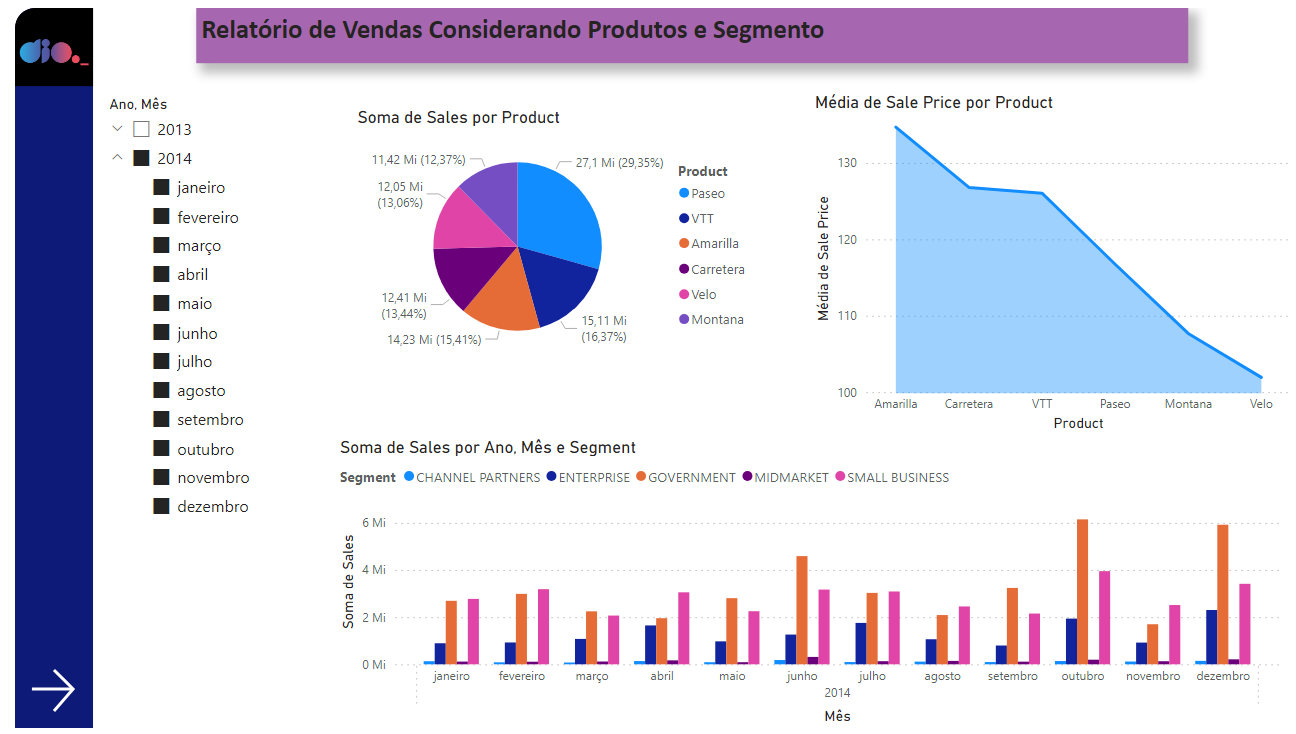

What the dashboard file says about the page in this screenshot:
{"tool":"powerbi","page":{"name":"Página 1","canvas":[1280,720],"ordinal":0},"visuals":[{"type":"pieChart","fields":{"Category":["financials.Product"],"Y":["Sum(financials. Sales)"]},"box":[337.6,98.8,407.5,260.7],"z":0},{"type":"shape","box":[0,0,78.2,720],"z":500,"group":"g1"},{"type":"shape","box":[0,0.4,78.4,78.4],"z":750,"group":"g1"},{"type":"image","title":"Logo DIO","box":[0,0,78.2,88],"z":1000,"group":"g1"},{"type":"areaChart","fields":{"Category":["financials.Product"],"Y":["Avg(financials.Sale Price)"]},"box":[794.5,83.7,485.8,344.4],"z":1000},{"type":"clusteredColumnChart","fields":{"Category":["financials.Date.Variation.Hierarquia de datas.Ano","financials.Date.Variation.Hierarquia de datas.Mês"],"Y":["Sum(financials. Sales)"],"Series":["financials.Segment"]},"box":[319.7,428.1,949.6,292.3],"z":2000},{"type":"actionButton","title":"seta à direita ","box":[9.8,655.2,57.5,55],"z":2000,"group":"g1"},{"type":"slicer","fields":{"Values":["financials.Date.Variation.Hierarquia de datas.Ano","financials.Date.Variation.Hierarquia de datas.Mês"]},"box":[80.7,83.1,221.3,491.4],"z":3000},{"type":"textbox","box":[181.1,0,992.1,54.9],"z":4000},{"type":"group","id":"g1","title":"Barra lateral","box":[0,0,78.4,720],"z":5000}]}

Visuals, with their boxes in screenshot pixels (x1, y1, x2, y2), scaled from the page's 1280x720 canvas onto the 1296x734 screenshot:
pieChart - financials.Product x Sum(financials. Sales): box(342, 101, 754, 366)
shape: box(0, 0, 79, 733)
shape: box(0, 0, 79, 80)
"Logo DIO" image: box(0, 0, 79, 90)
areaChart - financials.Product x Avg(financials.Sale Price): box(804, 85, 1295, 436)
clusteredColumnChart - financials.Date.Variation.Hierarquia de datas.Ano x financials.Date.Variation.Hierarquia de datas.Mês: box(324, 436, 1285, 733)
"seta à direita " actionButton: box(10, 668, 68, 724)
slicer - financials.Date.Variation.Hierarquia de datas.Ano x financials.Date.Variation.Hierarquia de datas.Mês: box(82, 85, 306, 586)
textbox: box(183, 0, 1188, 56)
"Barra lateral" group: box(0, 0, 79, 733)
